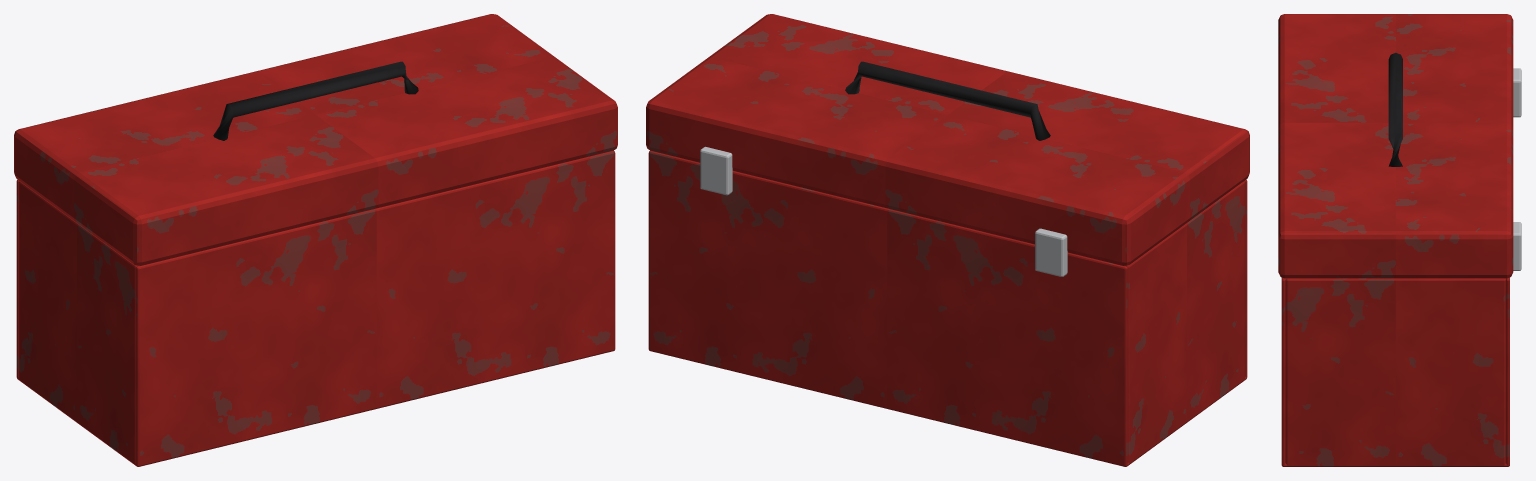
File: lootbox_toolbox.glb
3 views of the same model, side by side, from view 1: azimuth 30°, elevation 25°; view 2: azimuth 150°, elevation 25°; view 3: azimuth 270°, elevation 25° (orthographic). The views are drawn at different scales.
Parts seen in each view (by area): view 1: tb_back, lid, tb_left, handle; view 2: tb_front, lid, tb_left, handle, latch-1, latch1, tb_floor; view 3: lid, tb_right, handle, tb_back, tb_front, latch-1, latch1, tb_floor.
Boxes of the visible parts, left/top/right/bottom form: tb_back: left=136, top=150, right=615, bottom=466; lid: left=14, top=14, right=617, bottom=265; tb_left: left=19, top=181, right=137, bottom=463; handle: left=213, top=61, right=418, bottom=140; tb_front: left=648, top=150, right=1127, bottom=466; lid: left=646, top=14, right=1249, bottom=265; tb_left: left=1126, top=181, right=1244, bottom=463; handle: left=845, top=61, right=1050, bottom=140; latch-1: left=1035, top=228, right=1067, bottom=276; latch1: left=700, top=146, right=732, bottom=195; tb_floor: left=650, top=349, right=1246, bottom=466; lid: left=1278, top=14, right=1513, bottom=278; tb_right: left=1285, top=278, right=1505, bottom=466; handle: left=1388, top=52, right=1402, bottom=166; tb_back: left=1281, top=277, right=1285, bottom=466; tb_front: left=1506, top=277, right=1509, bottom=466; latch-1: left=1513, top=68, right=1521, bottom=117; latch1: left=1513, top=222, right=1521, bottom=270; tb_floor: left=1284, top=278, right=1507, bottom=466.
Bounding box in the file's own units: 0.506 × 0.2819 × 0.234.
3 materials, 2 textured.
